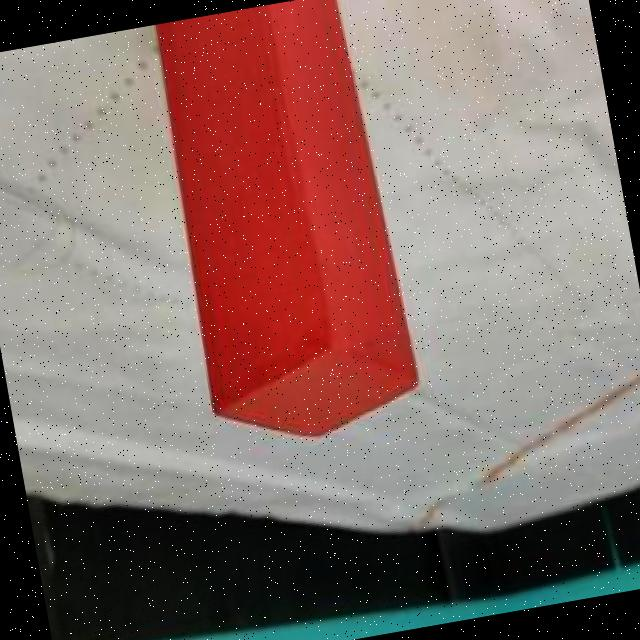redbox: (144, 0, 426, 457)
